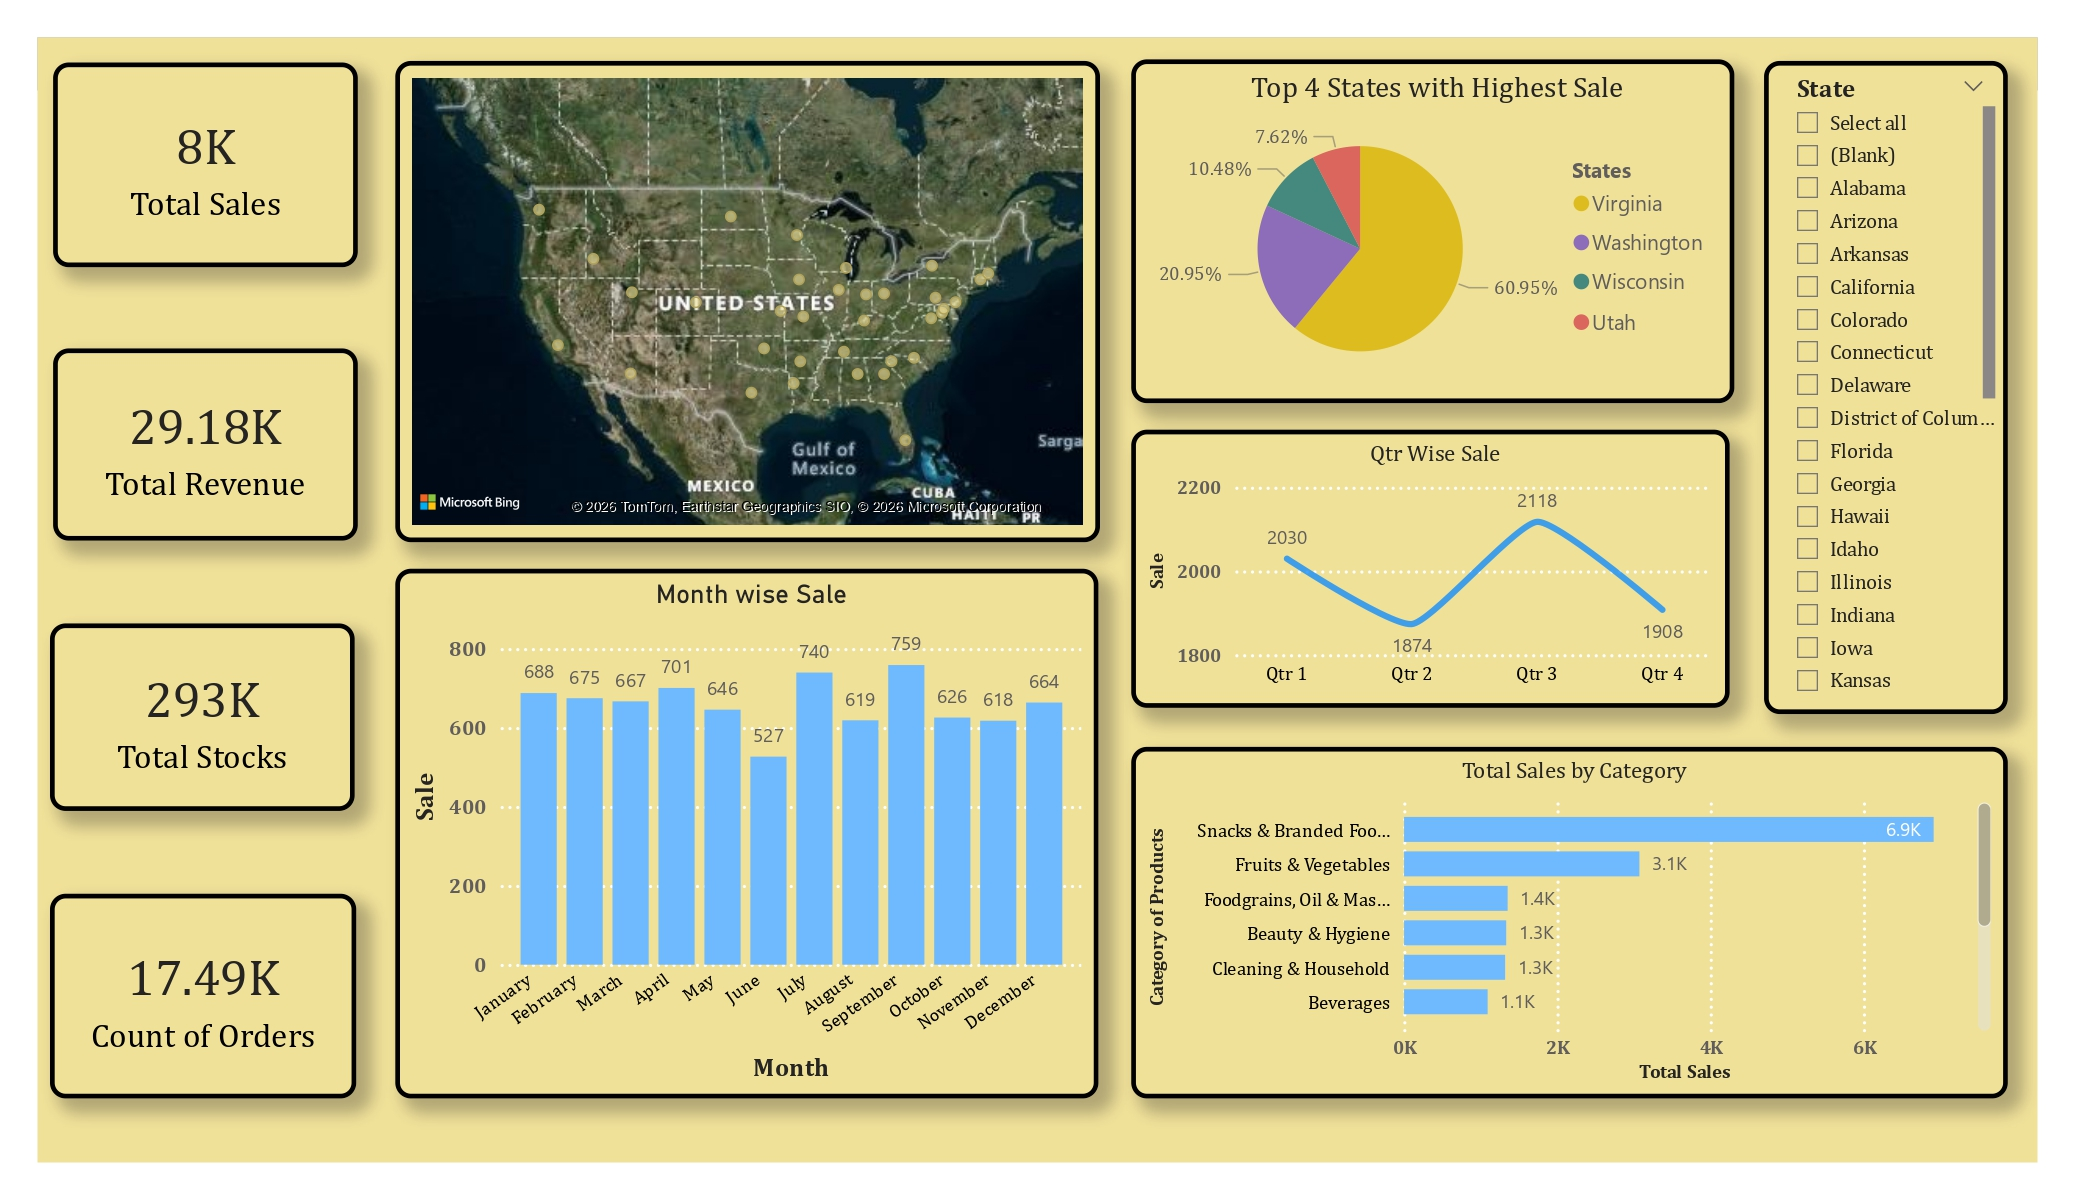

Layout of this report page (visuals, bound fields, positions):
{"tool":"powerbi","page":{"name":"D Analysis","canvas":[1280,720],"ordinal":2},"visuals":[{"type":"columnChart","title":"Month wise Sale","fields":{"Category":["2017_Sales_Data.order_date_2.Variation.Date Hierarchy.Month"],"Y":["Sum(2017_Sales_Data.sales)"]},"box":[229.2,340.2,450,339],"z":0},{"type":"pieChart","title":"Top 4 States with Highest Sale","fields":{"Category":["Store_Cities_Data.State"],"Y":["Sum(2017_Sales_Data.sales)"]},"box":[699.7,14.5,386.1,219.6],"z":1000},{"type":"card","fields":{"Values":["Sum(2017_Sales_Data.sales)"]},"box":[9.7,15.7,195.4,131.5],"z":2000},{"type":"card","fields":{"Values":["Sum(2017_Sales_Data.revenue)"]},"box":[9.7,199.1,195.4,123.1],"z":3000},{"type":"card","fields":{"Values":["Sum(2017_Sales_Data.stock)"]},"box":[8.4,375.2,194.2,119.4],"z":4000},{"type":"card","fields":{"Values":["CountNonNull(2017_Sales_Data.order_id)"]},"box":[8.4,547.7,195.4,131.5],"z":5000},{"type":"map","title":"Statewise Sale","fields":{"Category":["Store_Cities_Data.State"],"Y":["Avg(Store_Cities_Data.Lat)"],"X":["Avg(Store_Cities_Data.Long)"]},"box":[228.8,15,451.2,307.5],"z":6000},{"type":"lineChart","title":"Qtr Wise Sale","fields":{"Category":["2017_Sales_Data.order_date_2.Variation.Date Hierarchy.Quarter"],"Y":["Sum(2017_Sales_Data.sales)"]},"box":[699.7,250.9,383.6,178.6],"z":7000},{"type":"slicer","fields":{"Values":["Store_Cities_Data.State"]},"box":[1105.5,14.5,155.5,418],"z":8000},{"type":"clusteredBarChart","title":"Total Sales by Category","fields":{"Category":["04_producthierarchy.Category"],"Y":["Sum(SALES.sales)"]},"box":[699.7,453.6,561,225.6],"z":9000}]}

Visuals, with their boxes in screenshot pixels (x1, y1, x2, y2):
"Month wise Sale" columnChart: <bbox>397, 562, 1091, 1085</bbox>
"Top 4 States with Highest Sale" pieChart: <bbox>1122, 60, 1718, 399</bbox>
card - Sum(2017_Sales_Data.sales): <bbox>58, 62, 359, 265</bbox>
card - Sum(2017_Sales_Data.revenue): <bbox>58, 345, 359, 535</bbox>
card - Sum(2017_Sales_Data.stock): <bbox>56, 616, 356, 801</bbox>
card - CountNonNull(2017_Sales_Data.order_id): <bbox>56, 882, 357, 1085</bbox>
"Statewise Sale" map: <bbox>396, 61, 1092, 535</bbox>
"Qtr Wise Sale" lineChart: <bbox>1122, 425, 1714, 700</bbox>
slicer - Store_Cities_Data.State: <bbox>1748, 60, 1988, 705</bbox>
"Total Sales by Category" clusteredBarChart: <bbox>1122, 737, 1987, 1085</bbox>
